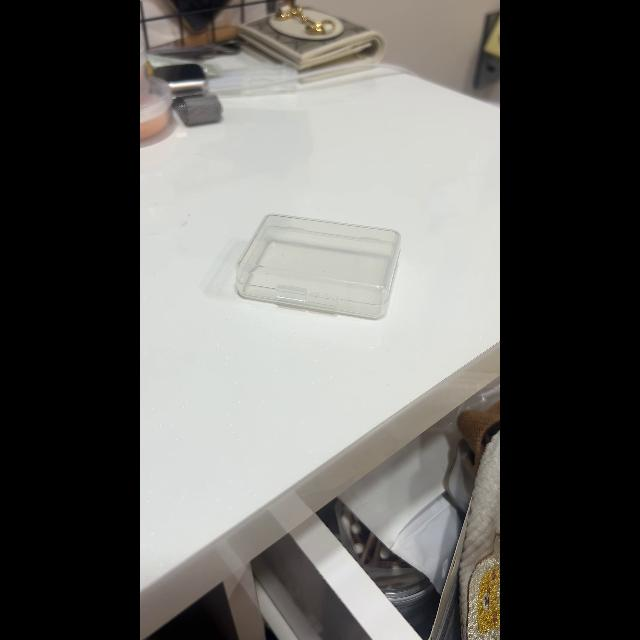clean: (234, 212, 403, 318)
